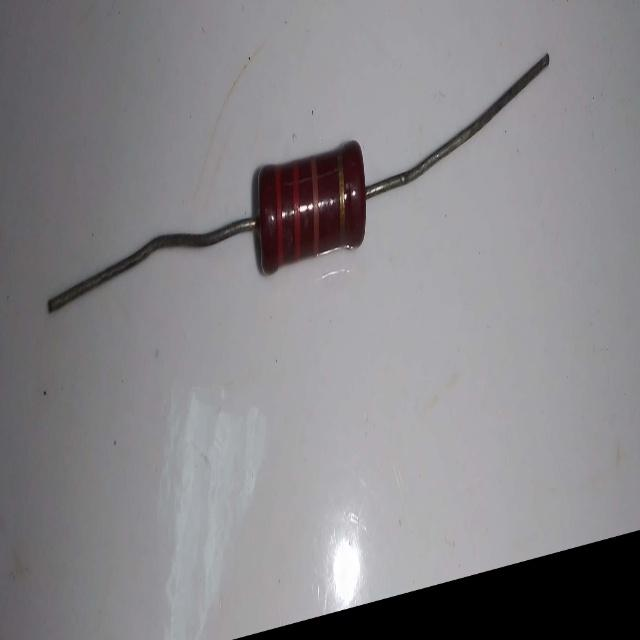Carbon Resistor: (43, 49, 570, 350)
